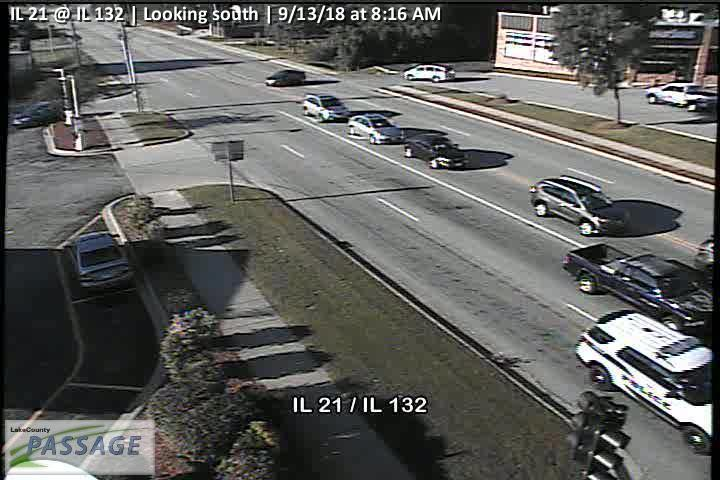SUV: (574, 310, 712, 456), (529, 175, 626, 236), (403, 129, 472, 169), (347, 112, 405, 146), (10, 99, 66, 132), (302, 94, 348, 123), (402, 64, 455, 82)
Sedan: (61, 229, 134, 290), (265, 69, 305, 87)
Truck: (560, 241, 712, 334), (645, 82, 717, 113)
